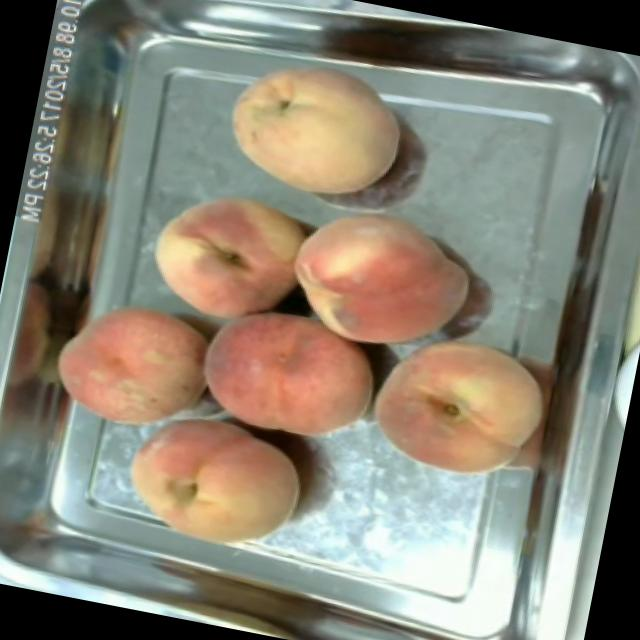Fruit: (270, 188, 488, 372), (208, 34, 422, 218), (352, 312, 560, 498), (104, 397, 318, 572), (182, 290, 392, 459), (132, 174, 320, 340), (47, 285, 222, 449)
